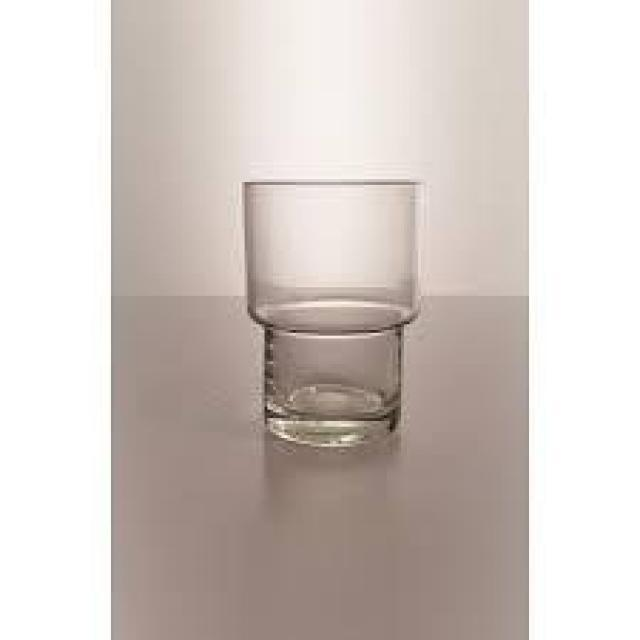glass: (240, 178, 426, 446)
